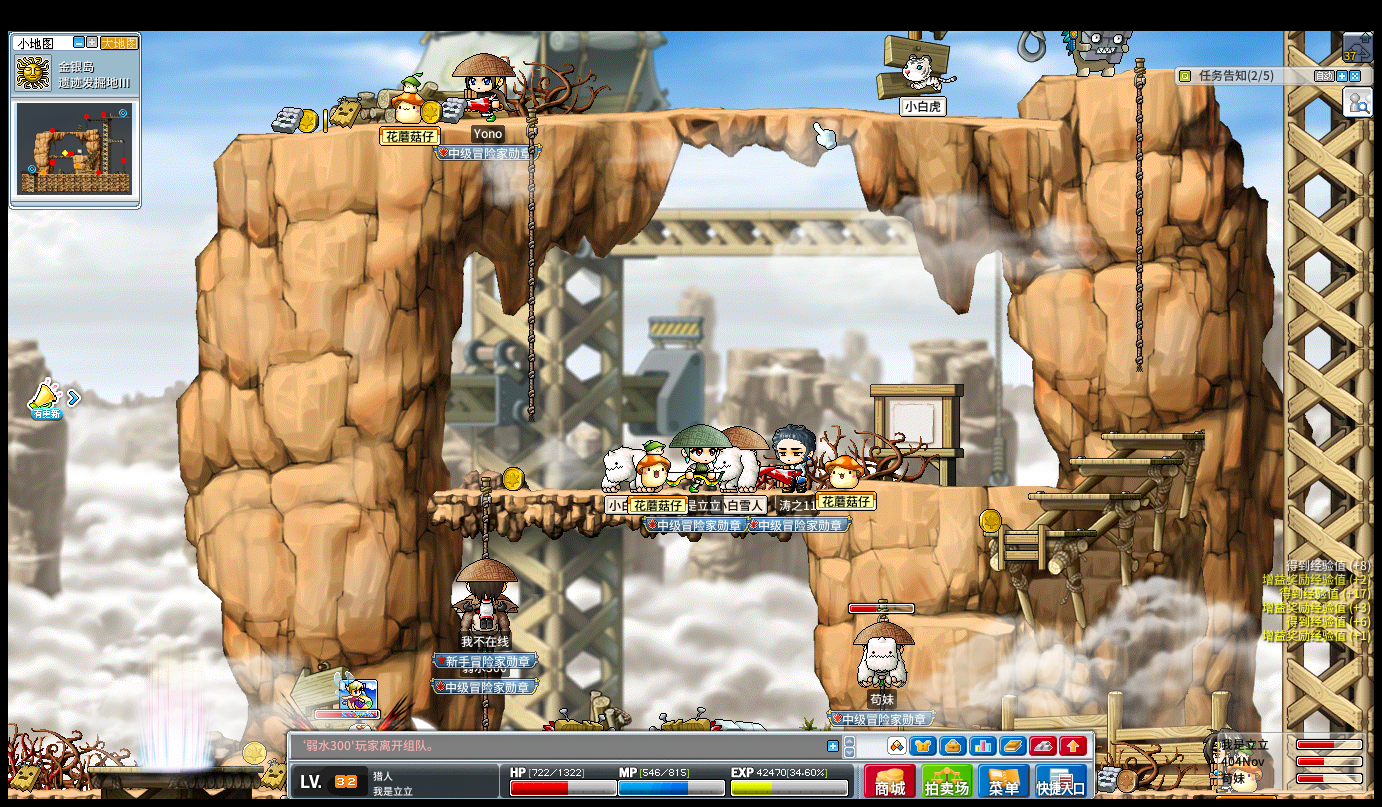floor: (239, 105, 1068, 136), (430, 488, 814, 499), (526, 107, 538, 424), (908, 613, 1017, 634), (1039, 66, 1174, 80), (889, 482, 1068, 492), (904, 484, 1065, 495), (1099, 429, 1206, 441), (983, 528, 1096, 537), (1064, 456, 1183, 464), (1028, 492, 1142, 500)
monster: (1065, 27, 1129, 77)
rope: (1133, 57, 1145, 374), (477, 477, 492, 559)
